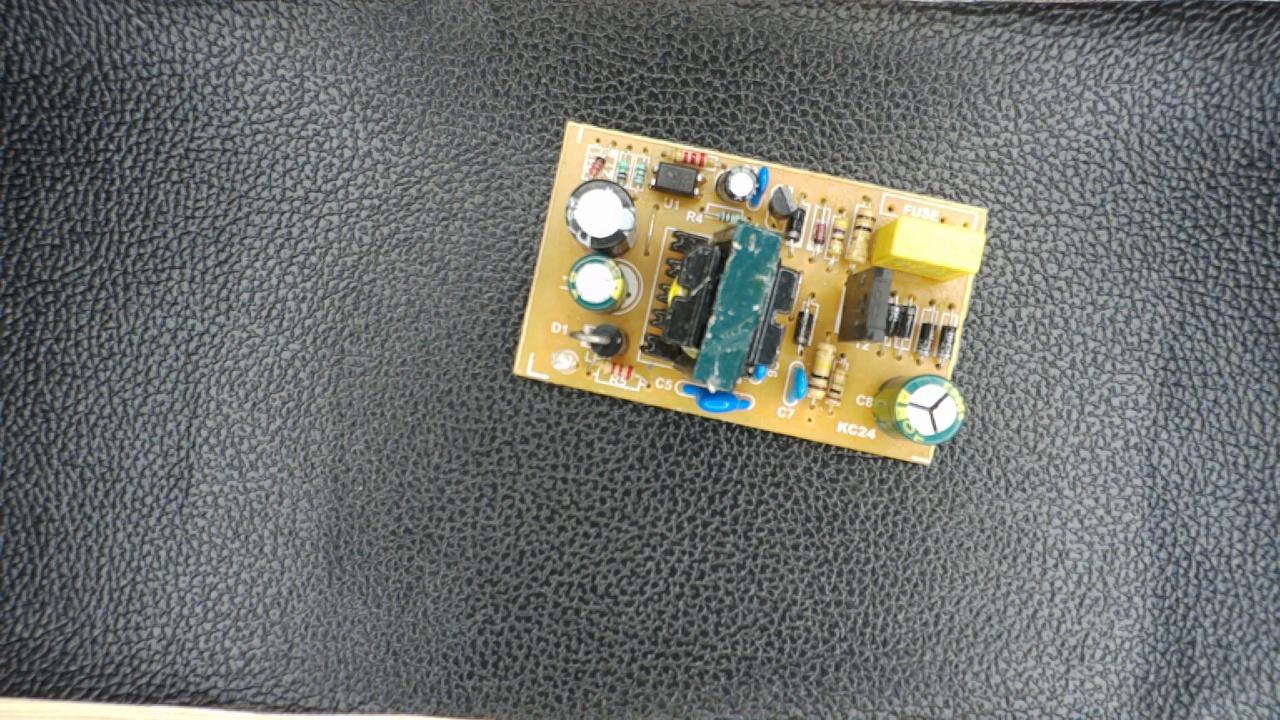hv_capacitor: (875, 372, 966, 447)
mov: (677, 380, 756, 417)
optocoupler: (648, 156, 710, 198)
